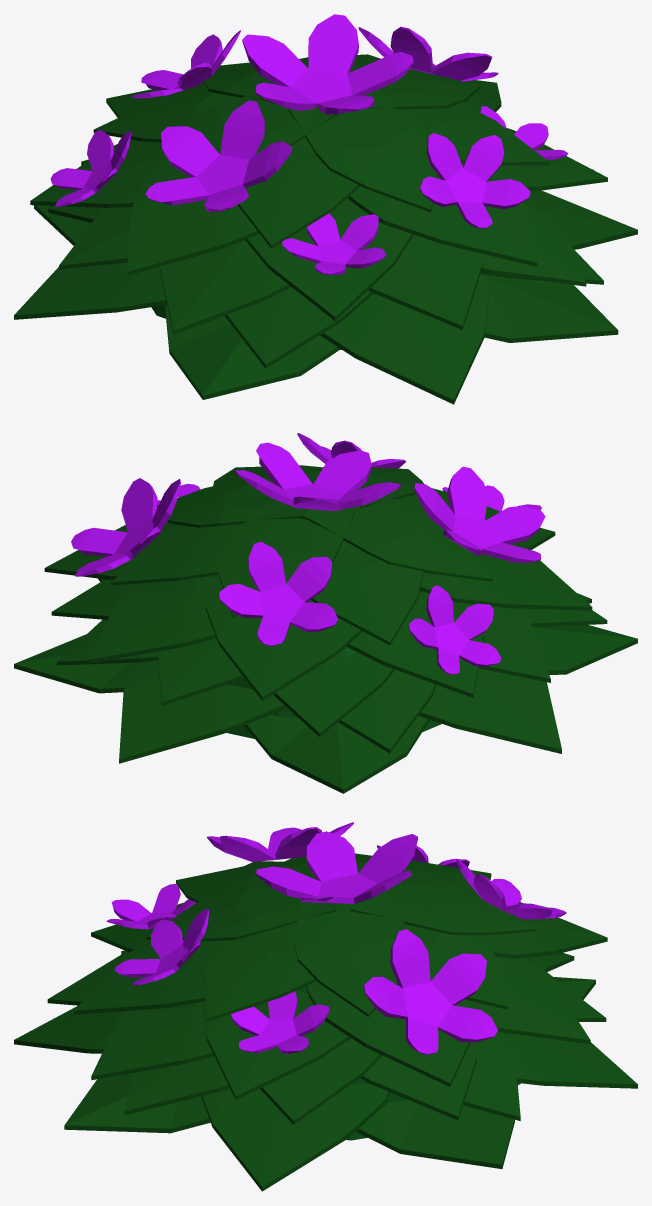
File: BushPurpleFlowers.obj
The picture shows the model from 3 angles, top to bottom: view 1: azimuth 30°, elevation 25°; view 2: azimuth 150°, elevation 25°; view 3: azimuth 270°, elevation 25°; orthographic projection. The views are drawn at different scales.
Visible parts, largest first — view 1: BushPurpleFlowers_Cube.006; view 2: BushPurpleFlowers_Cube.006; view 3: BushPurpleFlowers_Cube.006.
Part boxes in pixels (left/top/right/bottom): BushPurpleFlowers_Cube.006: left=14, top=14, right=637, bottom=404; BushPurpleFlowers_Cube.006: left=14, top=433, right=637, bottom=793; BushPurpleFlowers_Cube.006: left=14, top=822, right=637, bottom=1191.
Bounding box in the file's own units: 9.91 × 3.73 × 9.99.
